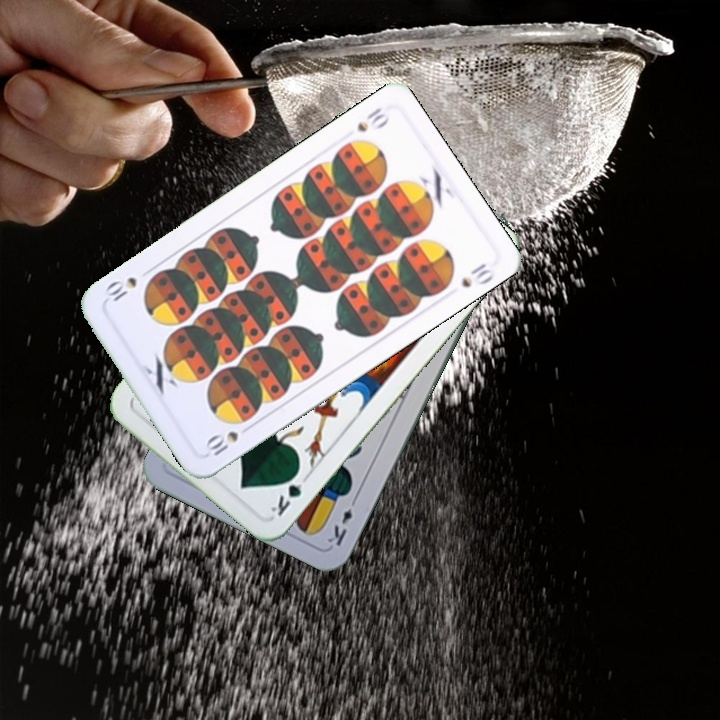EK: (323, 492, 360, 549)
GK: (266, 465, 312, 519)
S10: (201, 420, 255, 459), (352, 103, 393, 135)
